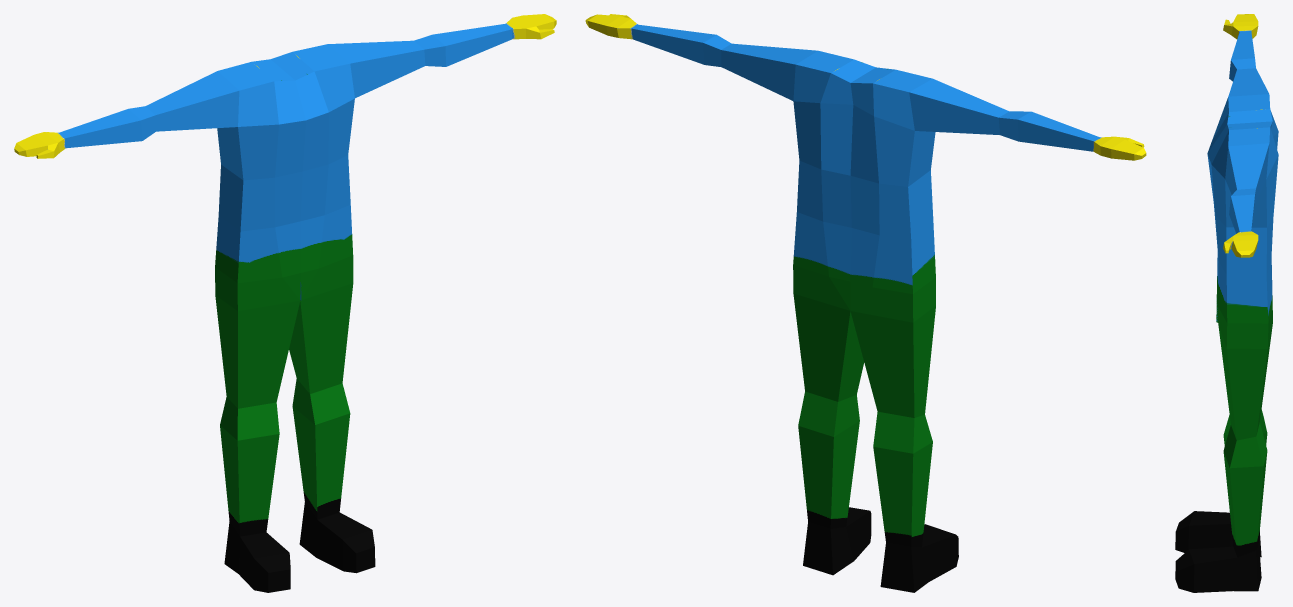
File: localHuman.fbx
The picture shows the model from 3 angles, left to right: view 1: azimuth 30°, elevation 25°; view 2: azimuth 150°, elevation 25°; view 3: azimuth 270°, elevation 25°; orthographic projection. The views are drawn at different scales.
Visible parts, largest first — view 1: Human; view 2: Human; view 3: Human.
Boxes of the visible parts, x1,y1,x2,y2 form: Human: (14,14,556,592); Human: (585,14,1146,592); Human: (1175,14,1278,592).
Bounding box in the file's own units: 200 × 174 × 36.33.
1 material, 1 textured.
